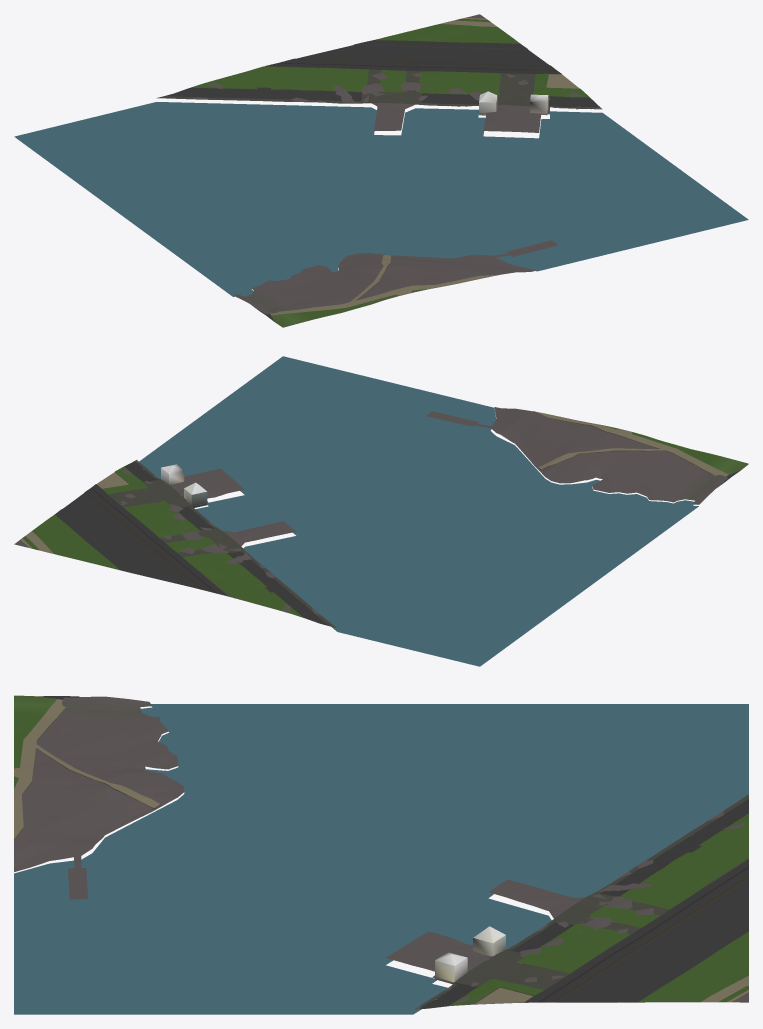
3 renders of one model, top to bottom at view 1: azimuth 30°, elevation 25°; view 2: azimuth 150°, elevation 25°; view 3: azimuth 270°, elevation 25°, orthographic. The views are drawn at different scales.
Parts seen in each view (by area): view 1: c_p00_p13; view 2: c_p00_p13; view 3: c_p00_p13.
Boxes of the visible parts, x1,y1,x2,y2 form: c_p00_p13: (14,14,748,327); c_p00_p13: (14,356,748,666); c_p00_p13: (14,695,748,1014).
Bounding box in the file's own units: 128 × 5.85 × 128.
